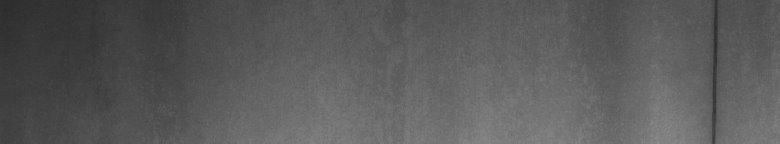hd: (708, 4, 724, 136)
